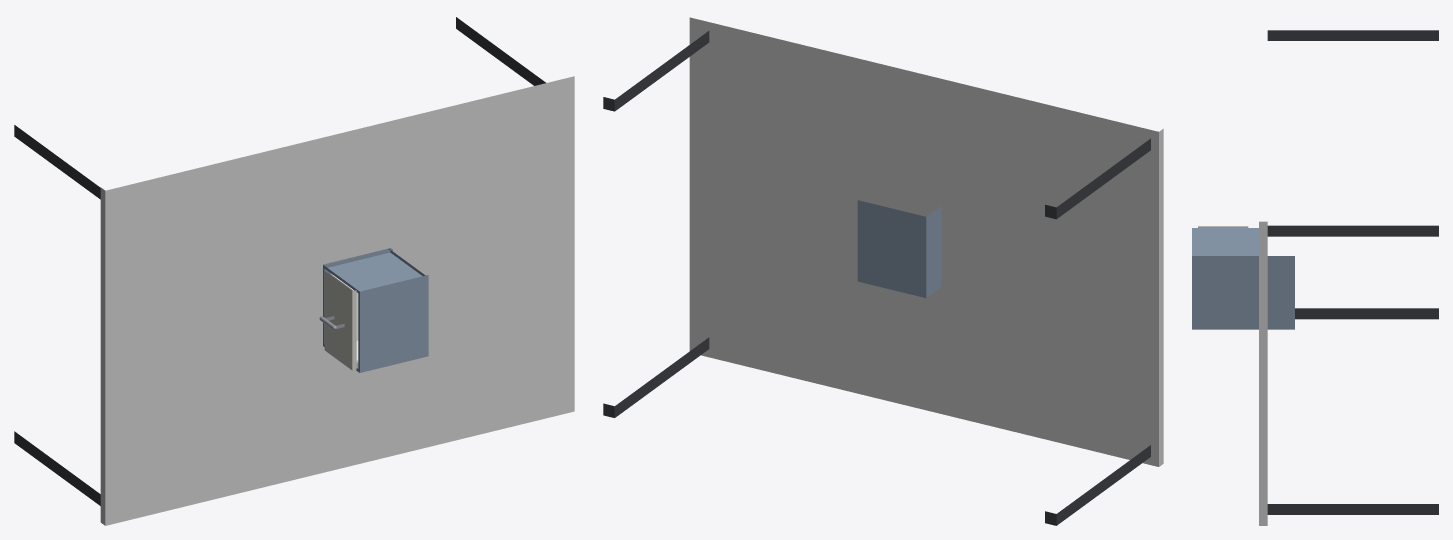
The picture shows the model from 3 angles, left to right: view 1: azimuth 30°, elevation 25°; view 2: azimuth 150°, elevation 25°; view 3: azimuth 270°, elevation 25°; orthographic projection. The views are drawn at different scales.
Visible parts, largest first — view 1: s0, s1, s2; view 2: s0, s1; view 3: s0, s1.
Part boxes in pixels (<box>): s0: <box>14,17,574,525</box>; s1: <box>323,248,428,372</box>; s2: <box>319,271,358,370</box>; s0: <box>603,17,1163,525</box>; s1: <box>857,200,941,298</box>; s0: <box>1259,30,1438,525</box>; s1: <box>1192,228,1294,329</box>.
Size of the model in its own units: 2.05 by 1.4 by 1.03.
